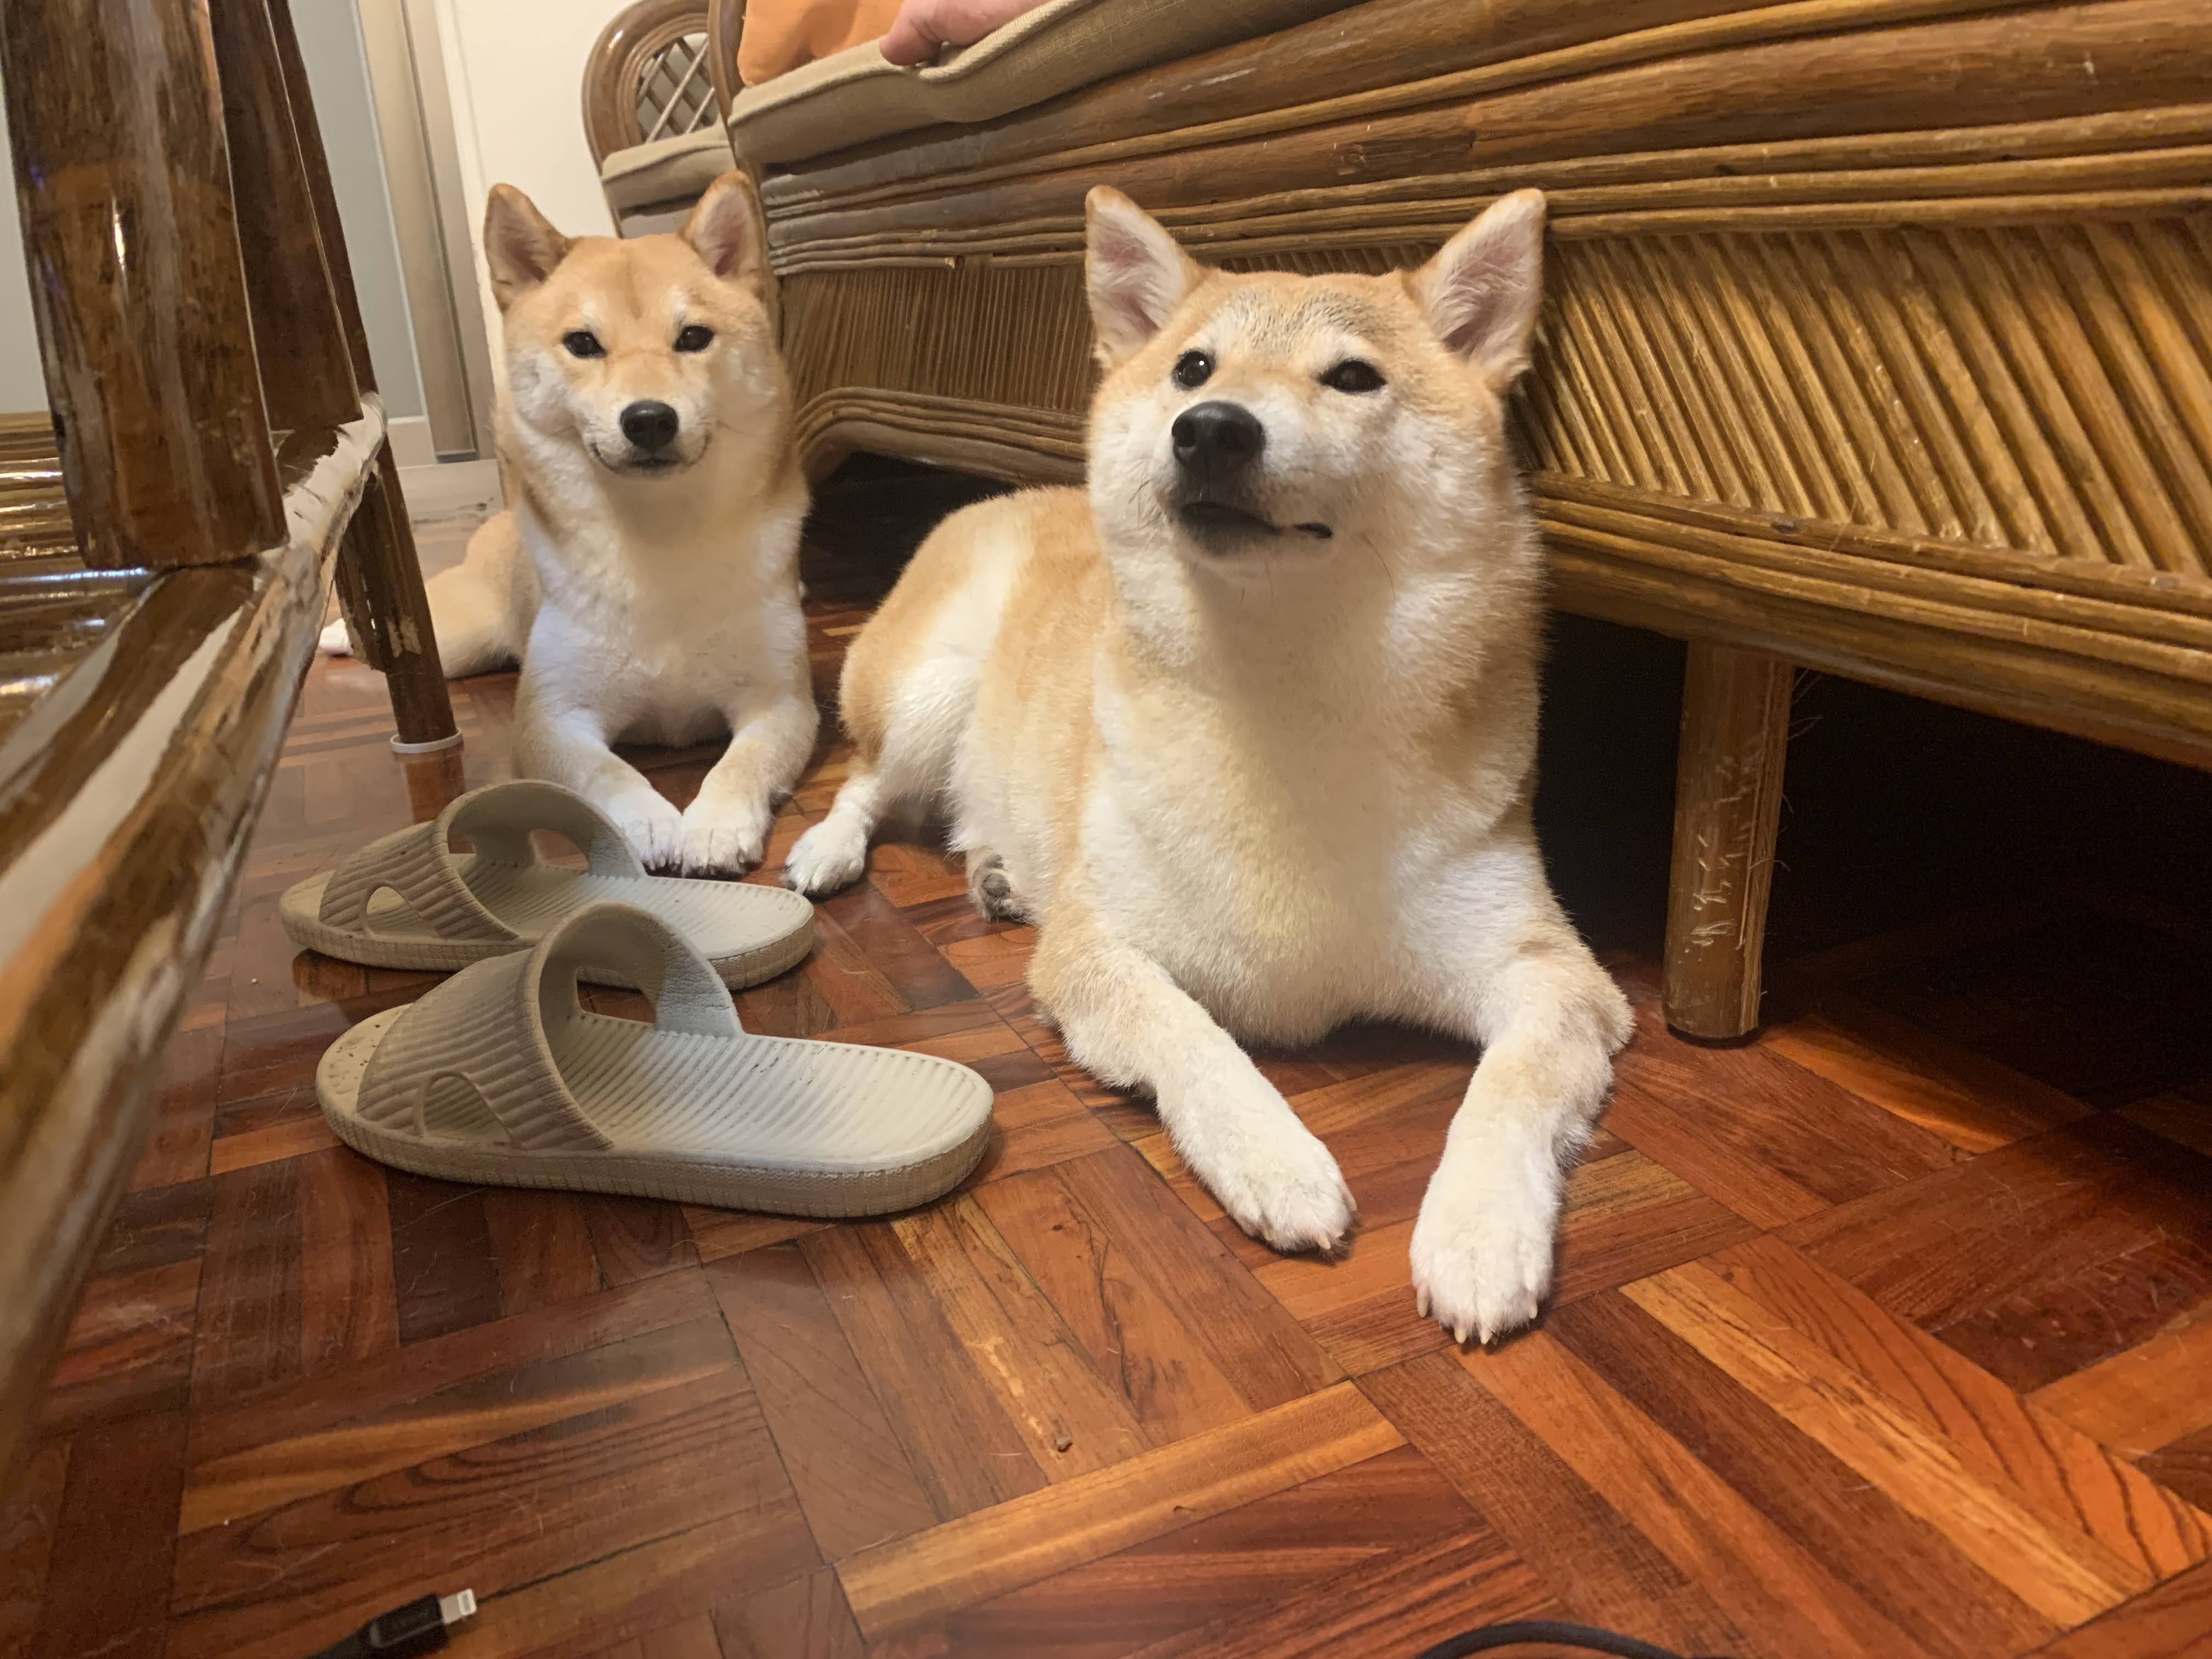Lie down: (862, 216, 1674, 1358), (333, 145, 840, 920)
